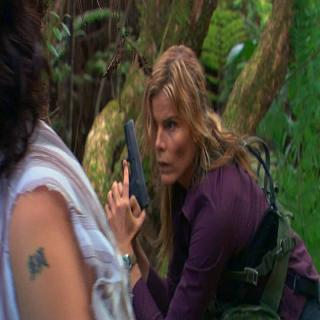gun: (104, 115, 151, 238)
